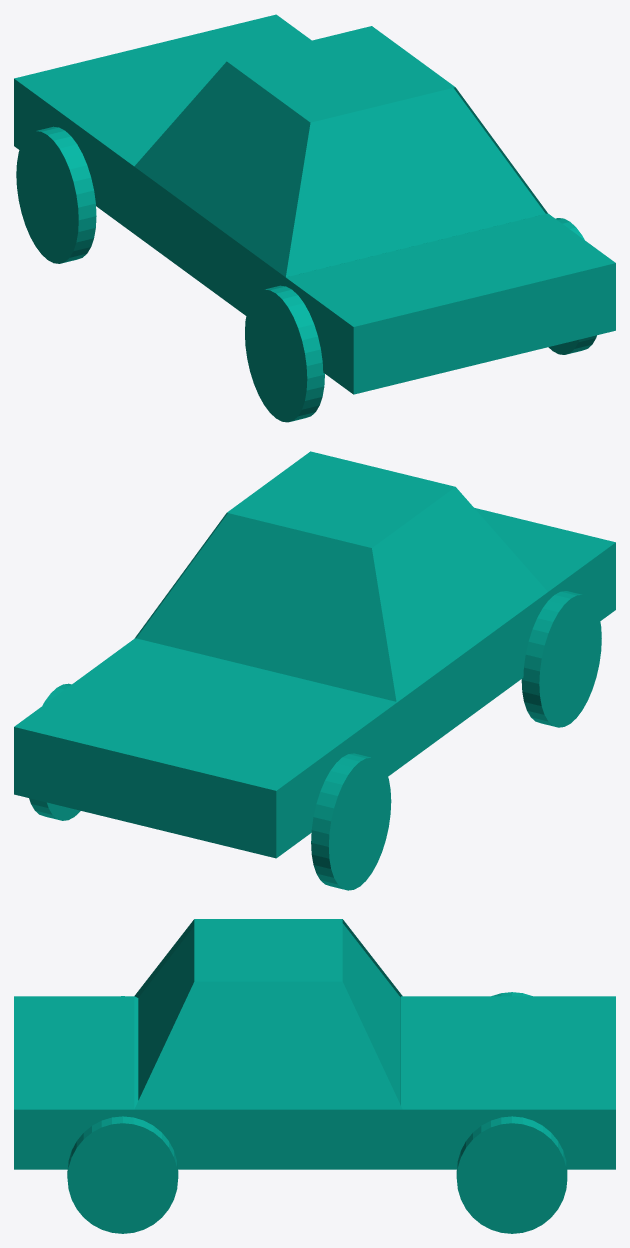
The model's file is car.glb.
3 views of the same model, one above another, from view 1: azimuth 30°, elevation 25°; view 2: azimuth 150°, elevation 25°; view 3: azimuth 270°, elevation 25° (orthographic). The views are drawn at different scales.
Parts seen in each view (by area): view 1: Cylinder.002; view 2: Cylinder.002; view 3: Cylinder.002.
Part boxes in pixels (x1,y1,x2,y2): Cylinder.002: (14, 14, 615, 422); Cylinder.002: (14, 451, 615, 890); Cylinder.002: (14, 919, 615, 1233).
Size of the model in its own units: 2.31 by 1.81 by 4.48.
